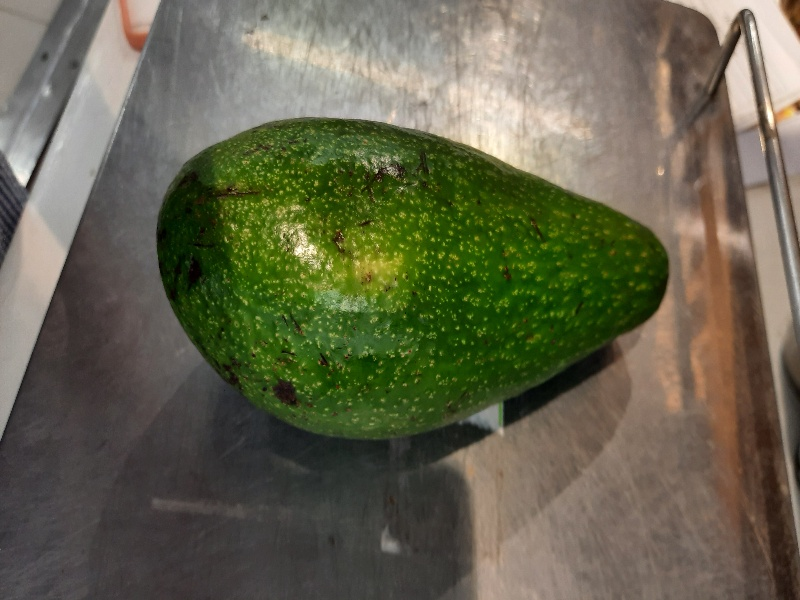fruit: (155, 115, 674, 448)
